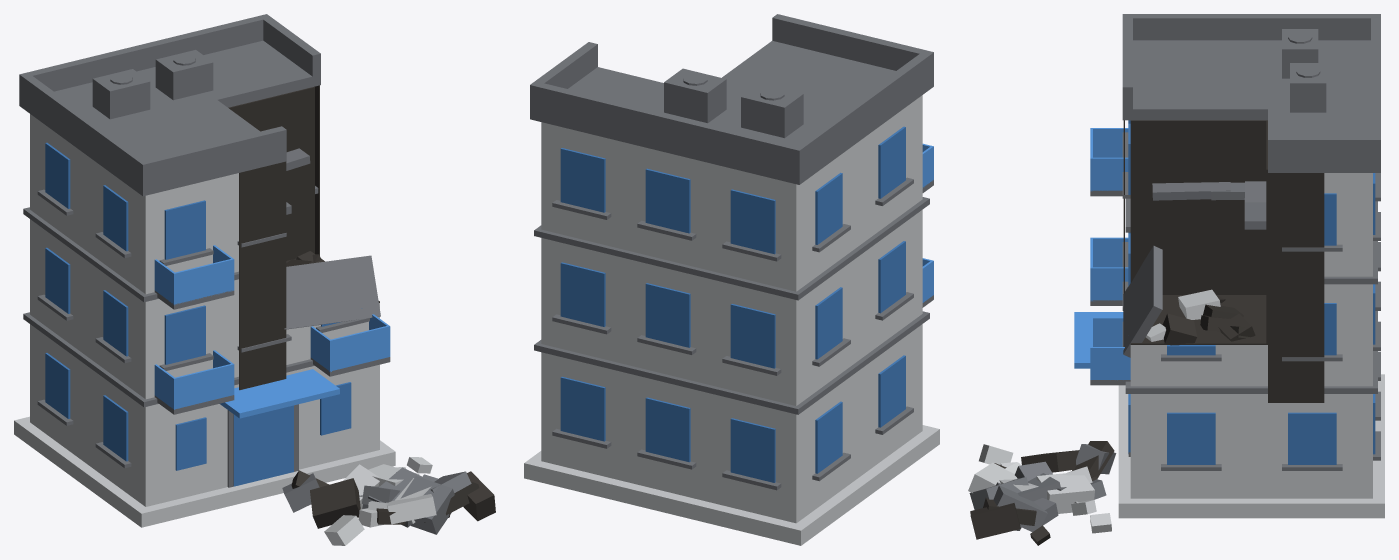
Rendered from Building_Small_02_Damaged.fbx.
The picture shows the model from 3 angles, left to right: view 1: azimuth 30°, elevation 25°; view 2: azimuth 150°, elevation 25°; view 3: azimuth 270°, elevation 25°; orthographic projection. The views are drawn at different scales.
Parts seen in each view (by area): view 1: Building_Small_02_Damaged_Structure, Building_Small_02_Damaged_Trim, Building_Small_02_Damaged_Scorched, Building_Small_02_Damaged_Windows, Building_Small_02_Damaged_Accent; view 2: Building_Small_02_Damaged_Structure, Building_Small_02_Damaged_Trim, Building_Small_02_Damaged_Windows, Building_Small_02_Damaged_Accent; view 3: Building_Small_02_Damaged_Trim, Building_Small_02_Damaged_Structure, Building_Small_02_Damaged_Scorched, Building_Small_02_Damaged_Windows, Building_Small_02_Damaged_Accent.
Part boxes in pixels (x1=…): Building_Small_02_Damaged_Structure: x1=14, y1=114, x2=436, y2=545; Building_Small_02_Damaged_Trim: x1=19, y1=14, x2=471, y2=534; Building_Small_02_Damaged_Scorched: x1=228, y1=85, x2=495, y2=528; Building_Small_02_Damaged_Windows: x1=45, y1=142, x2=361, y2=486; Building_Small_02_Damaged_Accent: x1=154, y1=245, x2=390, y2=418; Building_Small_02_Damaged_Structure: x1=524, y1=95, x2=939, y2=545; Building_Small_02_Damaged_Trim: x1=530, y1=14, x2=933, y2=490; Building_Small_02_Damaged_Windows: x1=560, y1=126, x2=905, y2=482; Building_Small_02_Damaged_Accent: x1=922, y1=143, x2=933, y2=302; Building_Small_02_Damaged_Trim: x1=969, y1=14, x2=1380, y2=531; Building_Small_02_Damaged_Structure: x1=968, y1=173, x2=1384, y2=533; Building_Small_02_Damaged_Scorched: x1=970, y1=120, x2=1324, y2=545; Building_Small_02_Damaged_Windows: x1=1128, y1=120, x2=1375, y2=464; Building_Small_02_Damaged_Accent: x1=1074, y1=128, x2=1130, y2=380.
Bounding box in the file's own units: 8.99 × 10.95 × 10.34.
